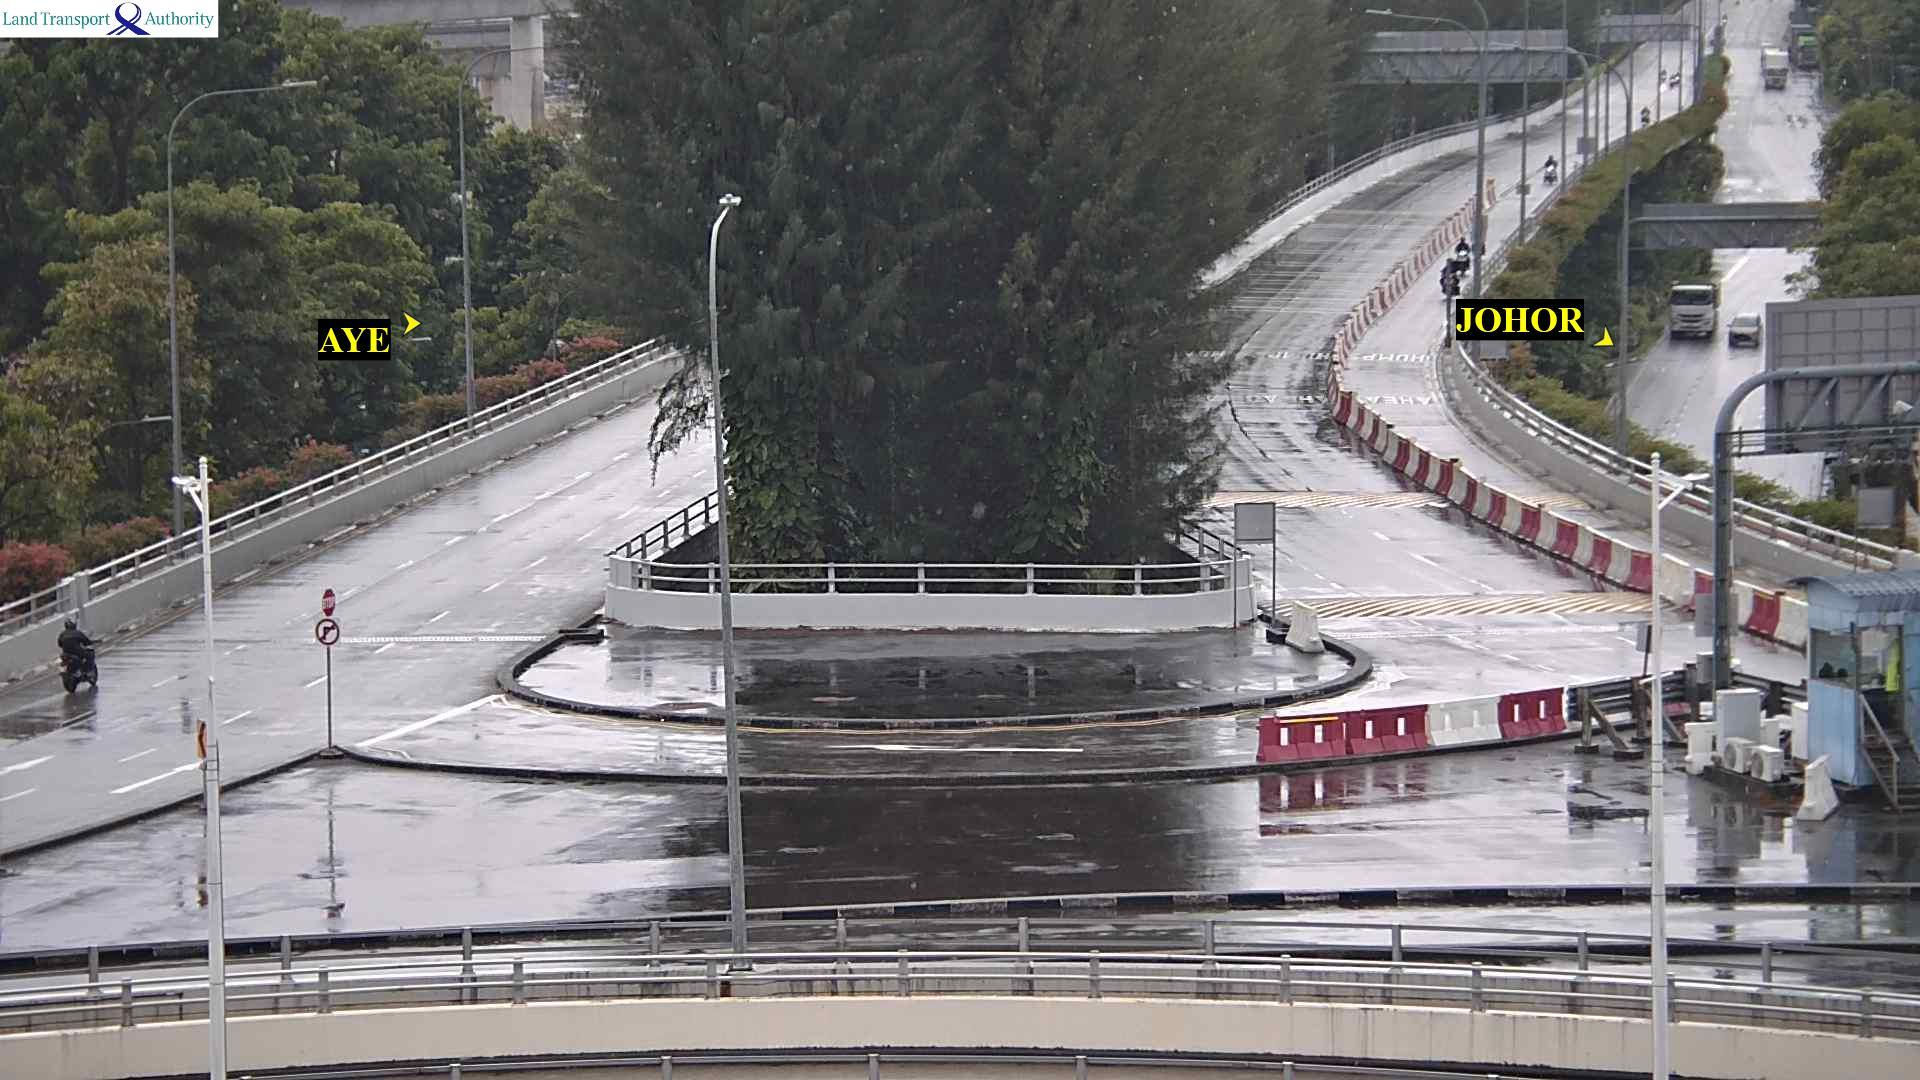vehicle-secondlink-johor: (1319, 336, 1346, 378)
vehicle-secondlink-singapore: (59, 621, 108, 687)
